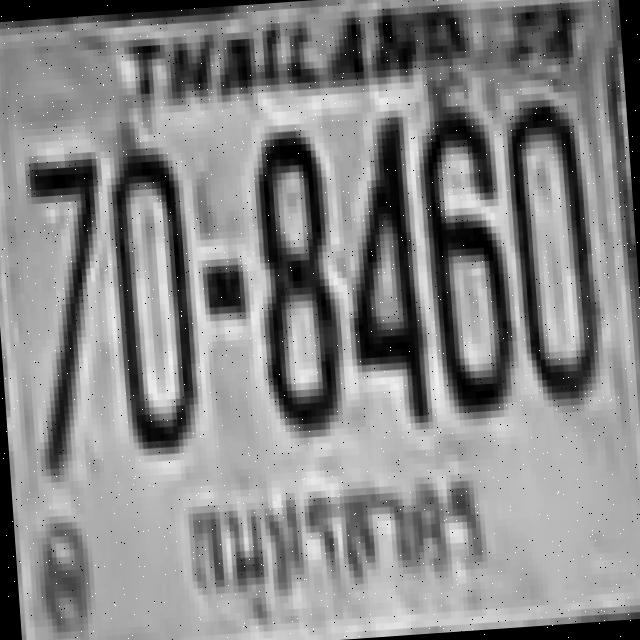0: (499, 87, 601, 398), (105, 135, 198, 446)
4: (335, 109, 428, 420)
6: (414, 96, 512, 408)
7: (19, 148, 112, 466)
8: (246, 122, 338, 426)
SamutSakhon: (172, 458, 503, 620)
